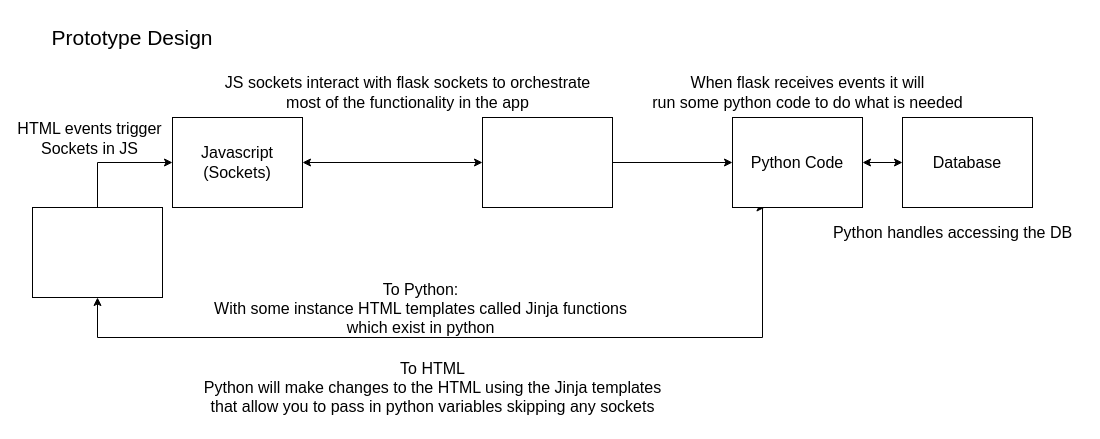
Some shapes in this 1100 by 439 pixel diagram are drawn without their labels. Each missing label, with the box of its shape:
Flask (Sockets): (482, 116, 612, 208)
HTML Frontend: (32, 206, 162, 298)
